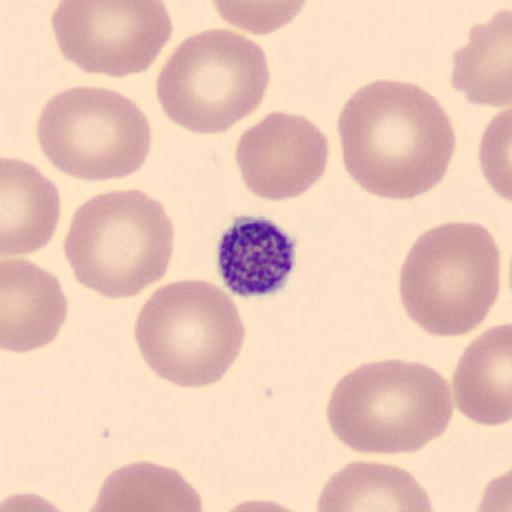Platelet: (214, 212, 301, 298)
RBC: (335, 76, 457, 203), (323, 356, 456, 458), (132, 277, 248, 390), (62, 186, 176, 300), (154, 27, 272, 137), (397, 218, 502, 338), (35, 83, 154, 184), (49, 0, 174, 79), (235, 108, 330, 202), (1, 257, 70, 354), (314, 458, 436, 512), (85, 458, 205, 512), (451, 322, 512, 428), (451, 6, 512, 108), (2, 156, 63, 256), (208, 0, 311, 37), (478, 104, 512, 205), (0, 489, 81, 512), (473, 465, 512, 511), (215, 495, 313, 512)
